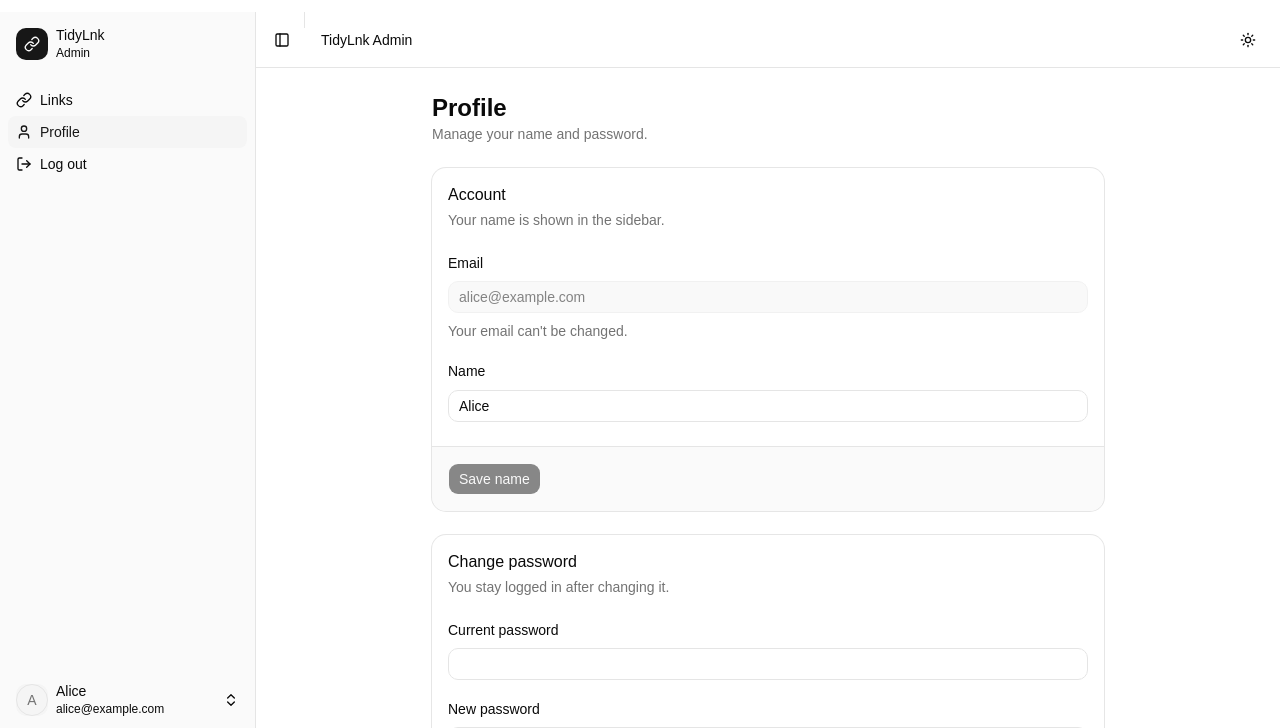
Test: Profile page › changes the name and updates the sidebar from the response
Replace the text in the field labelled "Name" with "  Alice B " at (768, 406), box [448,390,1088,422]
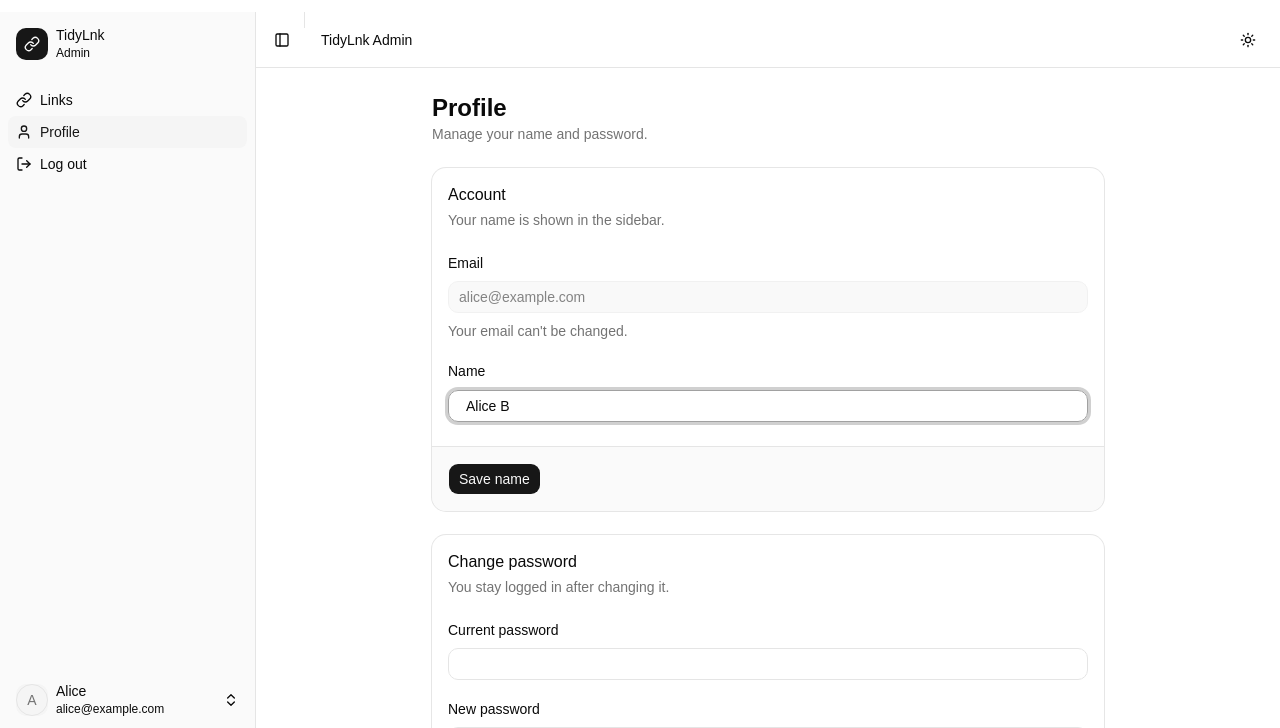
Click the button "Save name".
click(494, 478)  # box [448,462,541,494]
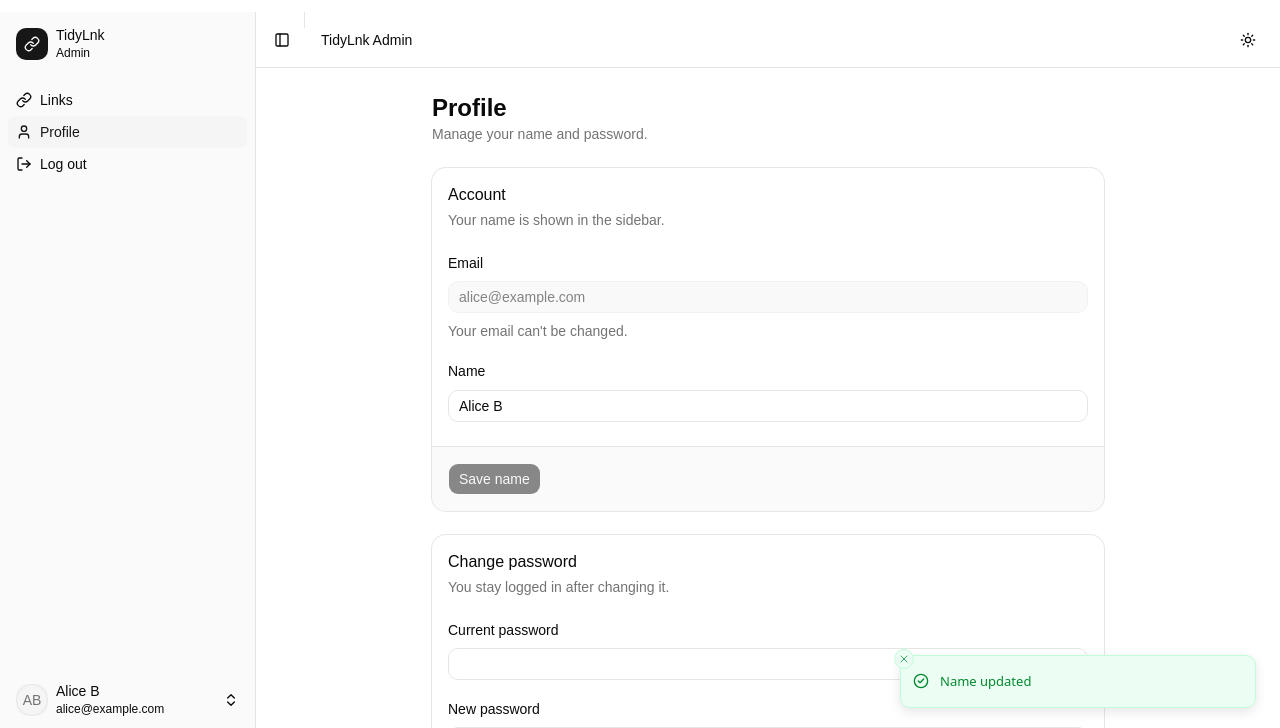
expect the text "Name updated" is shown: met, box [940,672,1031,691]
expect the button with aria-label "Account menu" shows "Alice B": met, box [8,676,247,724]
